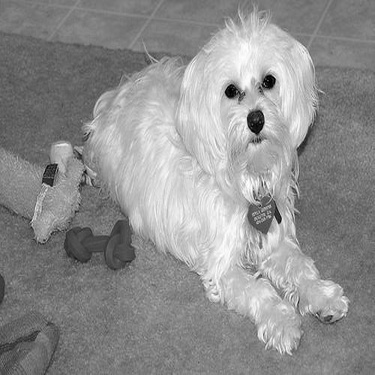dog: (66, 2, 353, 363)
